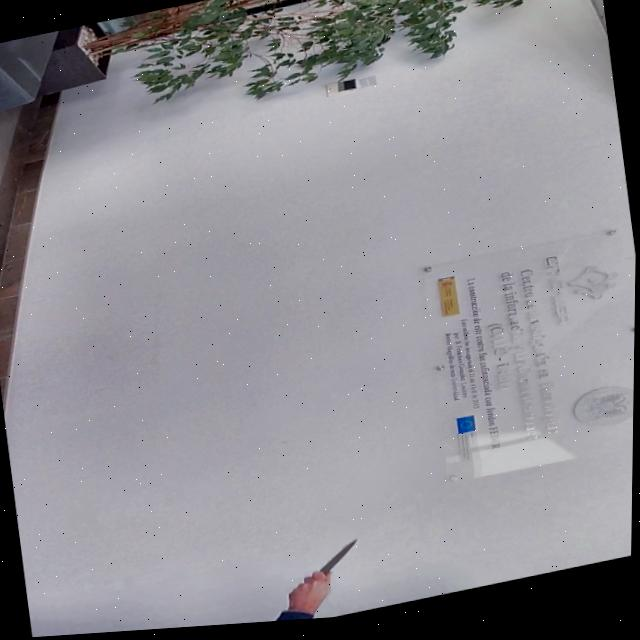knife: (316, 536, 373, 584)
